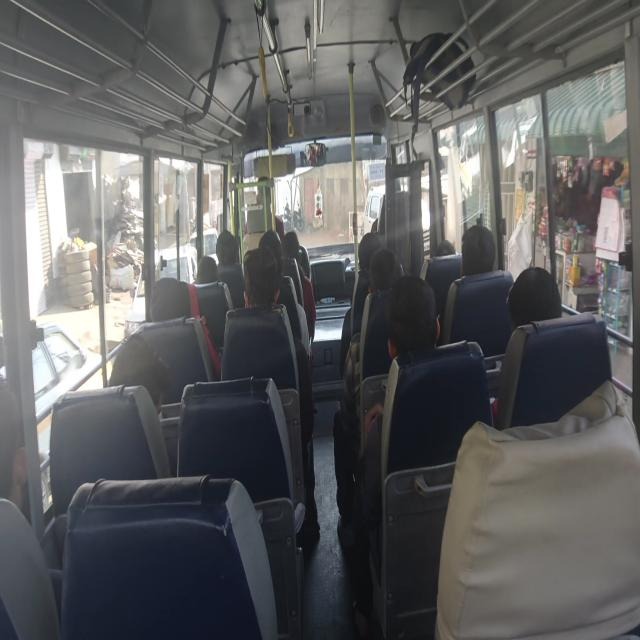person: (392, 276, 458, 376), (0, 385, 35, 571), (503, 269, 574, 355), (122, 339, 178, 433), (245, 244, 291, 338), (216, 226, 252, 279), (370, 248, 410, 292), (157, 268, 192, 318), (458, 219, 487, 268), (421, 229, 456, 268), (195, 253, 227, 295), (282, 224, 306, 273), (258, 228, 290, 262), (350, 231, 382, 265)
